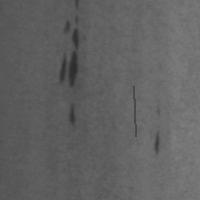inclusion: (58, 1, 81, 88), (149, 129, 163, 158), (65, 100, 78, 131), (131, 84, 137, 138)
